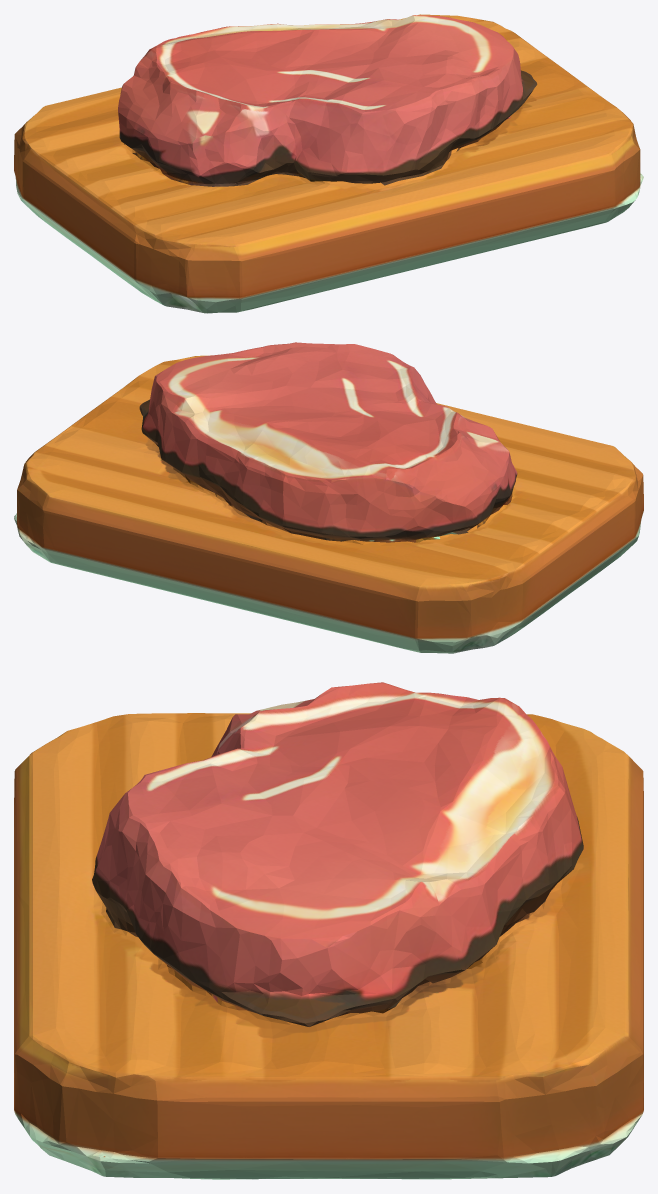
The model's file is boneless-pork-loin-chops-d62988.glb.
3 renders of one model, top to bottom at view 1: azimuth 30°, elevation 25°; view 2: azimuth 150°, elevation 25°; view 3: azimuth 270°, elevation 25°, orthographic. The views are drawn at different scales.
Visible parts, largest first — view 1: tmp1kpqfeer.ply; view 2: tmp1kpqfeer.ply; view 3: tmp1kpqfeer.ply.
Part boxes in pixels (bbox=[...]): tmp1kpqfeer.ply: bbox=[14, 14, 643, 313]; tmp1kpqfeer.ply: bbox=[14, 342, 643, 653]; tmp1kpqfeer.ply: bbox=[14, 682, 643, 1179].
Size of the model in its own units: 1.99 by 0.5634 by 1.4.
1 material, 1 textured.
